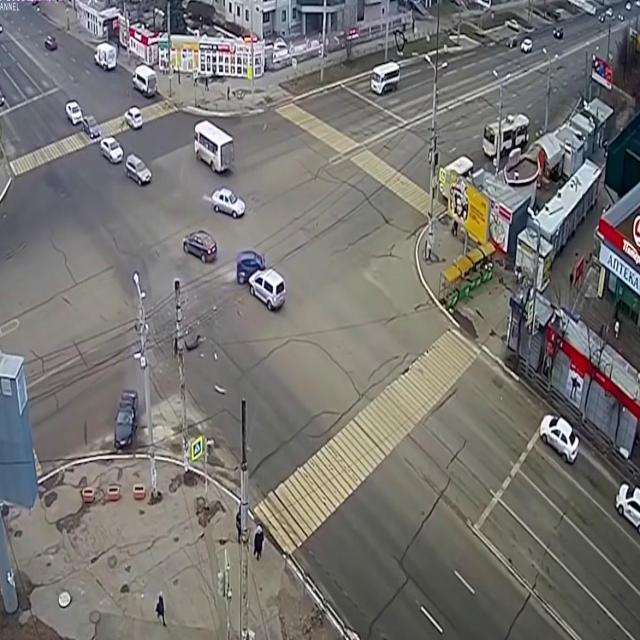accident: (231, 242, 292, 319), (105, 377, 145, 479)
non_accident: (63, 95, 157, 191)
